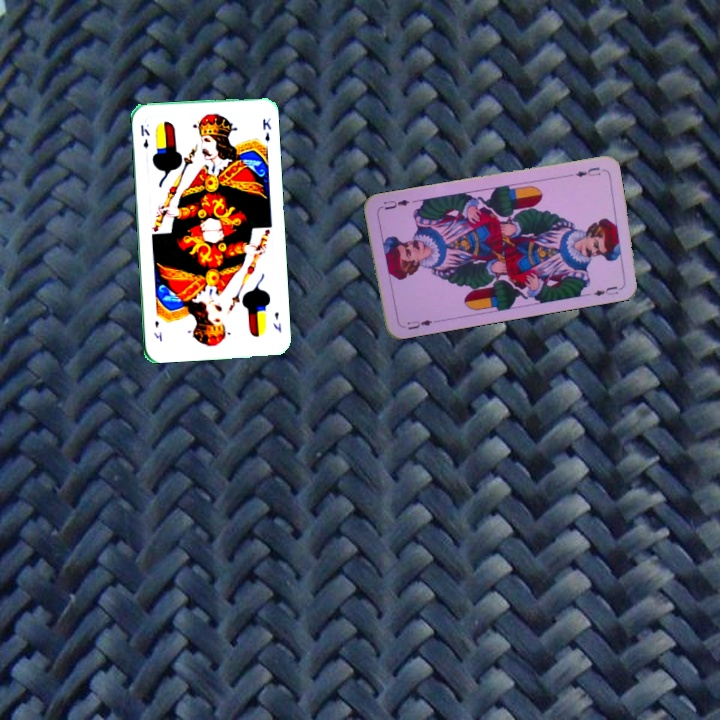EK: (136, 121, 152, 151), (269, 308, 283, 335)
EU: (403, 315, 439, 332), (571, 163, 603, 180)
